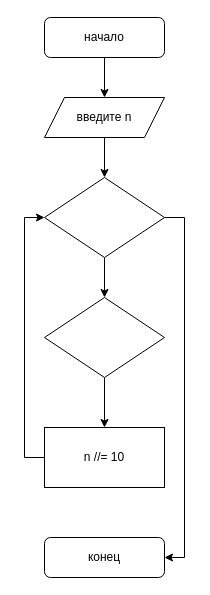
This 210x595 diagram has some shape labels left out. The box of each missing label's shape, as (x1, y1, x2, y2) in pixels:
s = f'{s}{n % 10}': (44, 296, 164, 378)
while n > 0: (44, 176, 164, 258)
